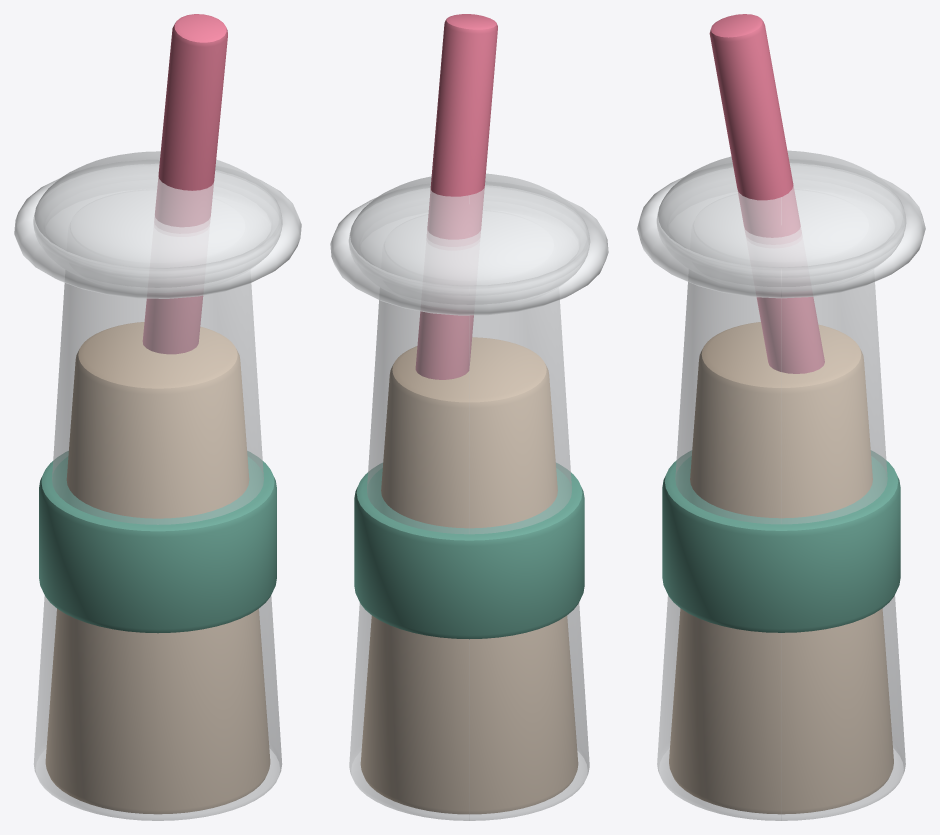
The model's file is bubble_tea.glb.
3 views of the same model, side by side, from view 1: azimuth 30°, elevation 25°; view 2: azimuth 150°, elevation 25°; view 3: azimuth 270°, elevation 25° (orthographic). The views are drawn at different scales.
Visible parts, largest first — view 1: Boba_Cup, Boba_Tea, Boba_Band, Boba_Lid, Boba_SealFilm, Boba_Straw, Boba_LidRim; view 2: Boba_Cup, Boba_Tea, Boba_Band, Boba_Lid, Boba_SealFilm, Boba_Straw, Boba_LidRim; view 3: Boba_Cup, Boba_Tea, Boba_Band, Boba_Lid, Boba_SealFilm, Boba_Straw, Boba_LidRim.
Part boxes in pixels (x1,y1,x2,y2): Boba_Cup: (34, 283, 281, 820); Boba_Tea: (45, 322, 270, 814); Boba_Band: (39, 451, 276, 633); Boba_Lid: (34, 151, 281, 287); Boba_SealFilm: (33, 166, 282, 277); Boba_Straw: (142, 14, 227, 354); Boba_LidRim: (14, 160, 301, 298); Boba_Cup: (349, 300, 589, 820); Boba_Tea: (360, 337, 578, 814); Boba_Band: (354, 463, 584, 639); Boba_Lid: (349, 173, 589, 304); Boba_SealFilm: (349, 187, 589, 295); Boba_Straw: (415, 14, 497, 379); Boba_LidRim: (330, 182, 608, 315); Boba_Cup: (657, 282, 905, 820); Boba_Tea: (669, 322, 893, 814); Boba_Band: (662, 450, 900, 632); Boba_Lid: (657, 150, 905, 286); Boba_SealFilm: (657, 165, 905, 277); Boba_Straw: (709, 14, 824, 373); Boba_LidRim: (637, 159, 925, 298).
Bounding box in the file's own units: 0.074 × 0.215 × 0.074.
